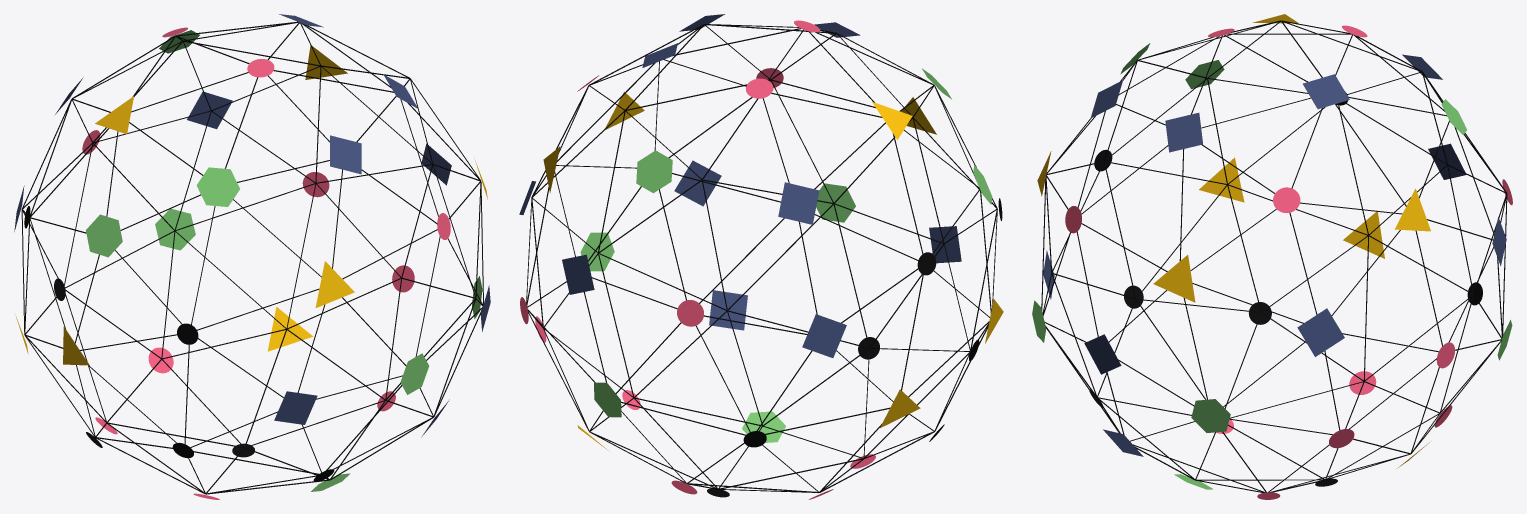
The picture shows the model from 3 angles, left to right: view 1: azimuth 30°, elevation 25°; view 2: azimuth 150°, elevation 25°; view 3: azimuth 270°, elevation 25°; orthographic projection.
Parts seen in each view (by area): view 1: WireIsosphere.024; view 2: WireIsosphere.024; view 3: WireIsosphere.024.
Boxes of the visible parts, x1=… form: WireIsosphere.024: x1=14, y1=14, x2=490, y2=499; WireIsosphere.024: x1=519, y1=14, x2=1003, y2=499; WireIsosphere.024: x1=1032, y1=14, x2=1512, y2=499.
Size of the model in its own units: 3.49 by 3.43 by 3.41.
